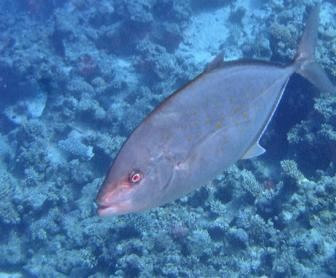Carangidae -Jacks-: (88, 0, 336, 214)
